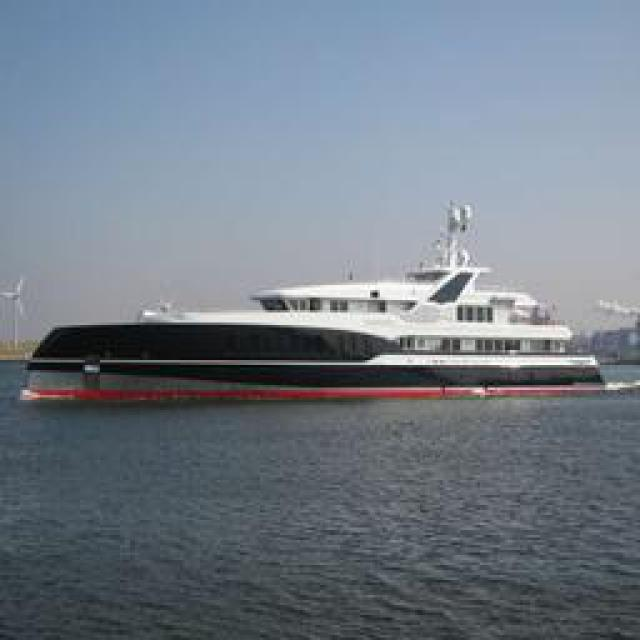Ship: (25, 201, 608, 396)
